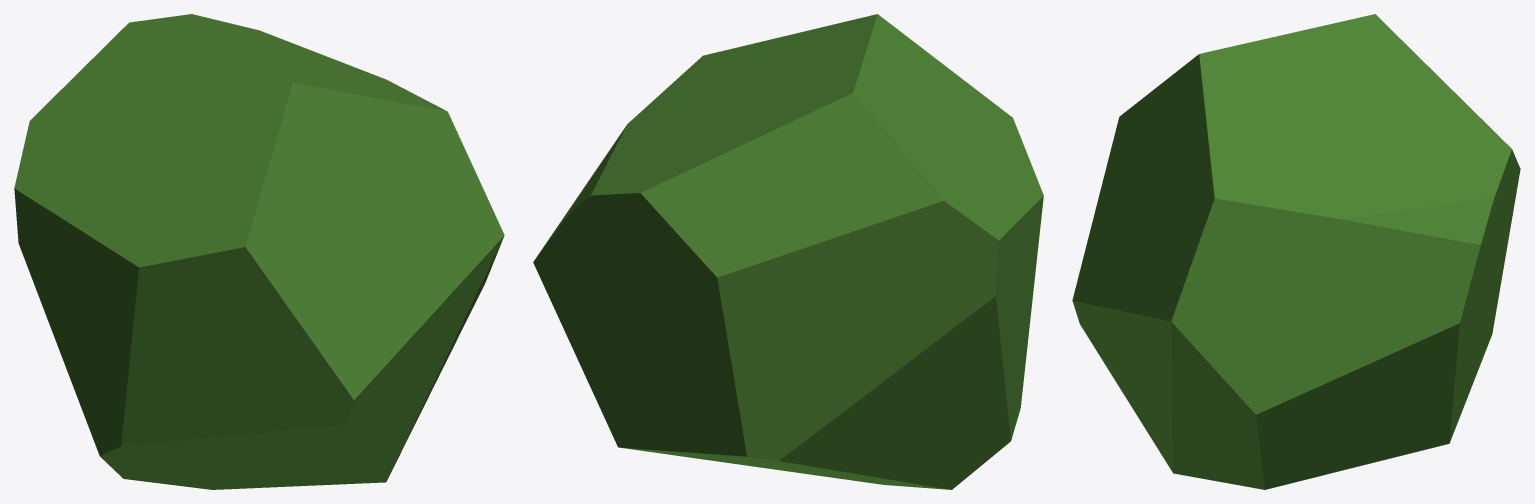
Rendered from piedra peque 4.fbx.
3 views of the same model, side by side, from view 1: azimuth 30°, elevation 25°; view 2: azimuth 150°, elevation 25°; view 3: azimuth 270°, elevation 25° (orthographic). The views are drawn at different scales.
Parts seen in each view (by area): view 1: Rock_03; view 2: Rock_03; view 3: Rock_03.
Part boxes in pixels (x1,y1,x2,y2): Rock_03: [14, 14, 504, 489]; Rock_03: [533, 14, 1043, 489]; Rock_03: [1072, 14, 1520, 489].
Bounding box in the file's own units: 312 × 306 × 306.
